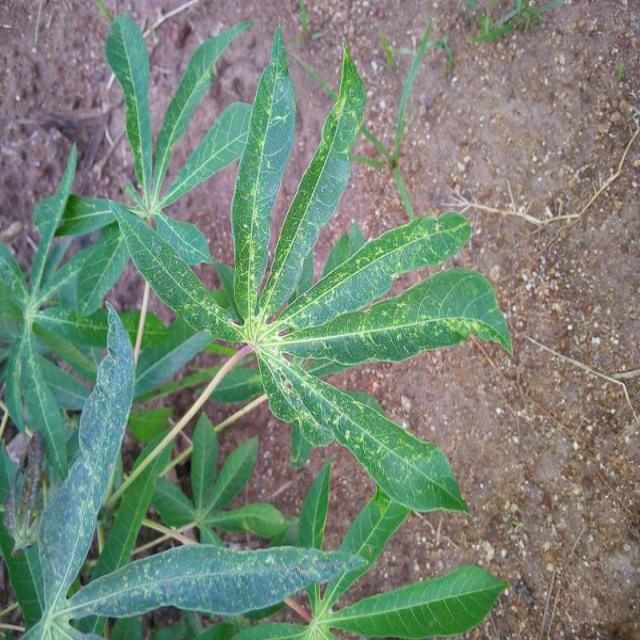cassava leaf: (6, 14, 513, 637), (34, 298, 137, 634), (259, 41, 368, 320), (230, 23, 298, 324)
